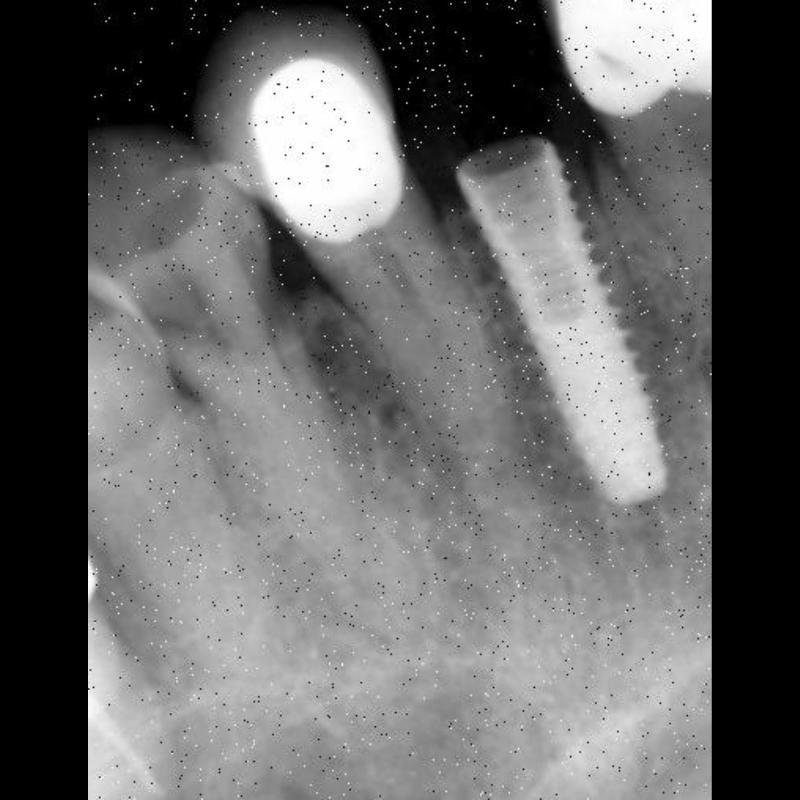Dentium: (449, 136, 677, 514)
